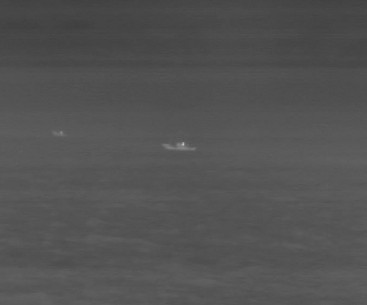Target: (54, 132, 195, 151)
